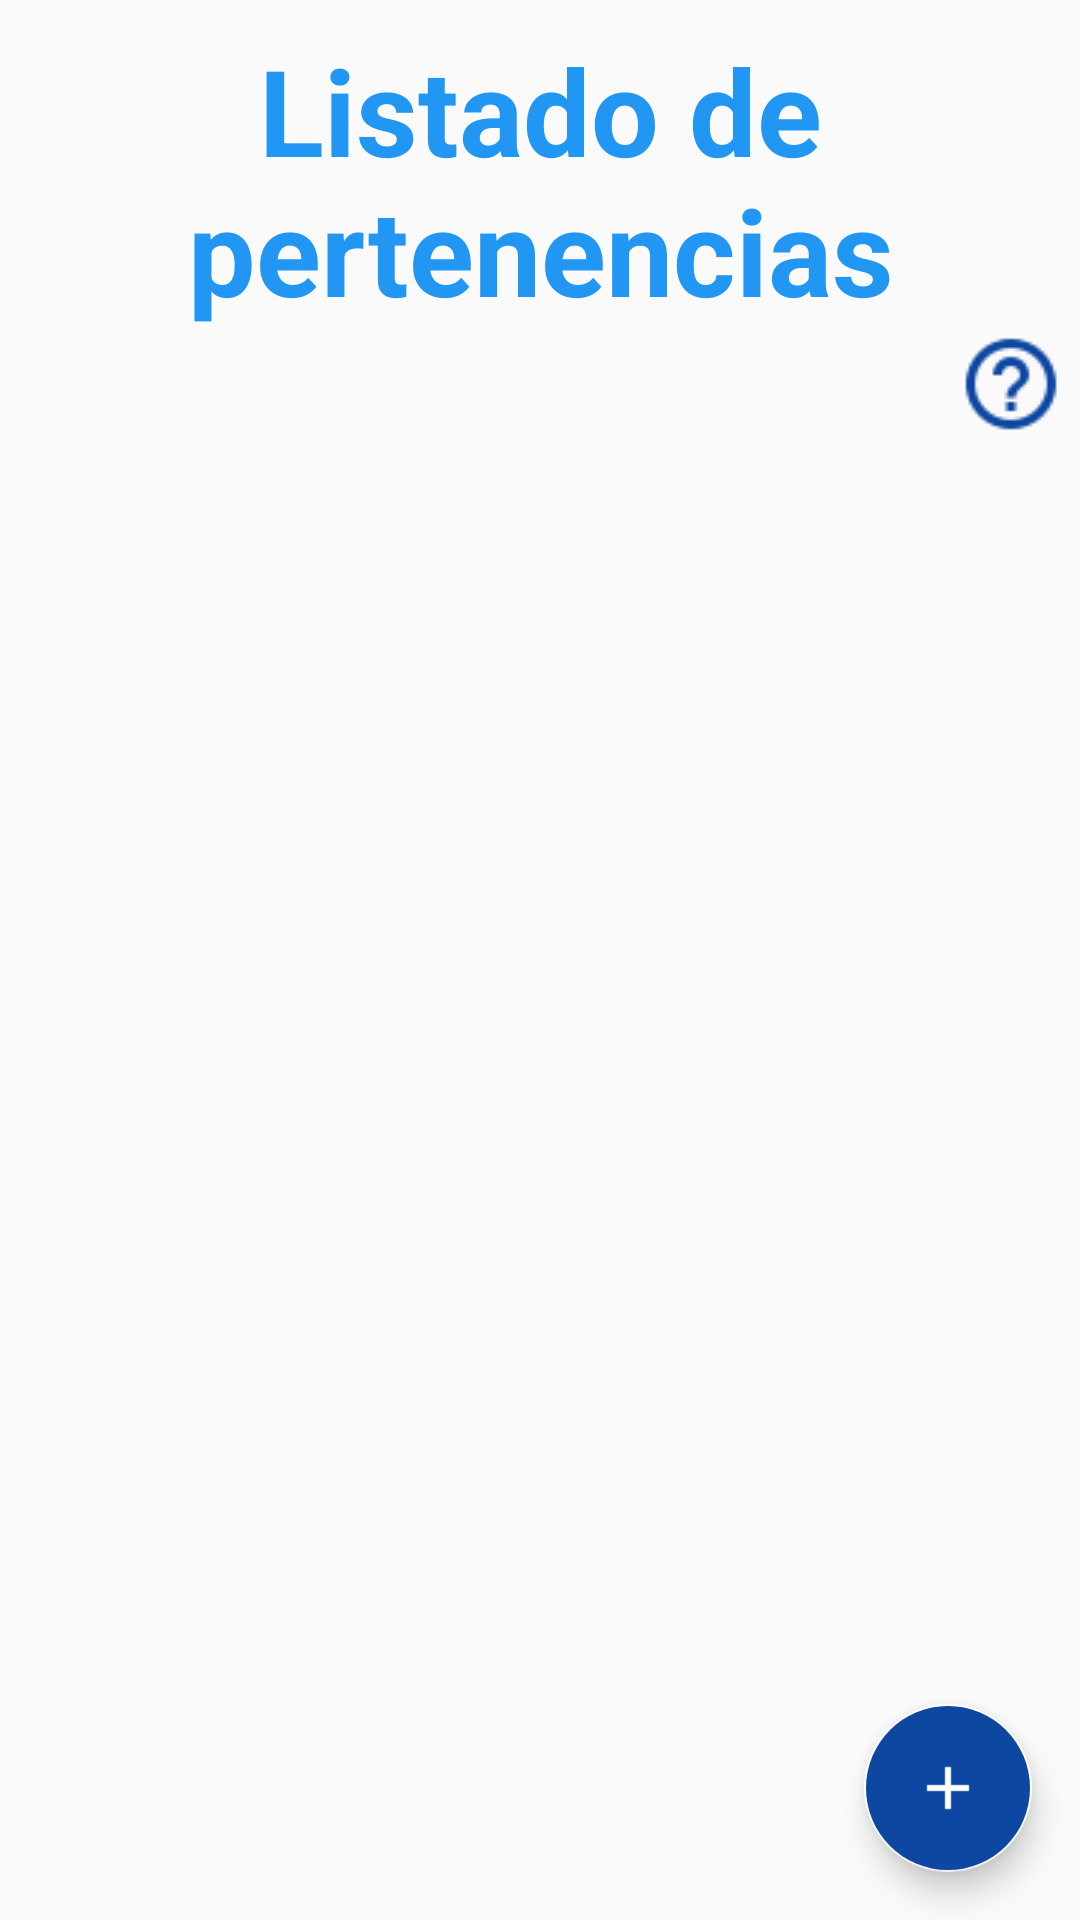

Locate icon controls on the screen. Image size 1080w x 1920h, boxes as (x1,y1,x2,y2).
plus: (866,1706,1030,1870)
